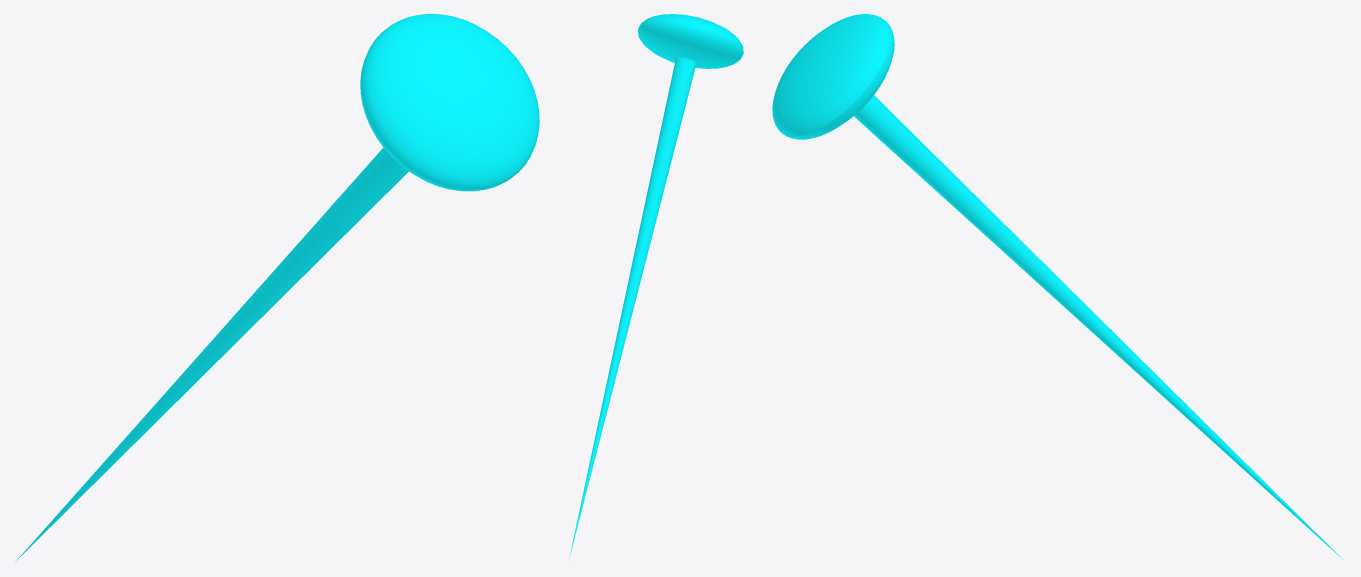
The model's file is viking2.glb.
3 renders of one model, left to right at view 1: azimuth 30°, elevation 25°; view 2: azimuth 150°, elevation 25°; view 3: azimuth 270°, elevation 25°, orthographic. The views are drawn at different scales.
Parts seen in each view (by area): view 1: cone1; view 2: cone1; view 3: cone1.
Boxes of the visible parts, box(x1,y1,x2,y2) form: cone1: box(15, 14, 539, 561); cone1: box(569, 14, 743, 559); cone1: box(772, 14, 1342, 559).
Size of the model in its own units: 0.000225 by 0.000833 by 0.00075.
